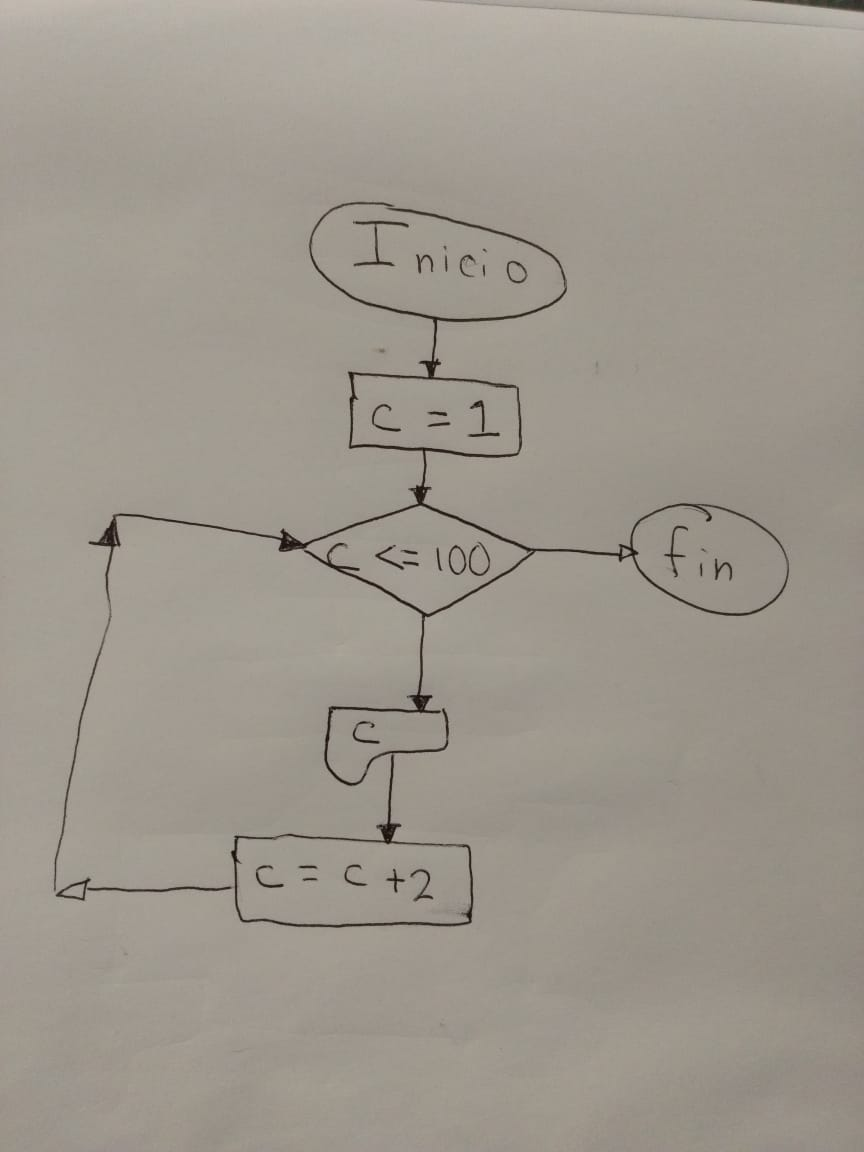arrow_line_down: (404, 616, 437, 712), (376, 753, 405, 845), (418, 316, 448, 377), (407, 445, 435, 506)
arrow_line_left: (54, 873, 237, 903)
arrow_line_right: (113, 508, 305, 561), (531, 534, 639, 568)
arrow_line_up: (52, 518, 128, 910)
decision: (301, 500, 535, 623)
print: (318, 701, 455, 790)
process: (230, 829, 480, 936), (341, 365, 530, 465)
start_end: (304, 194, 574, 330), (628, 496, 794, 622)
